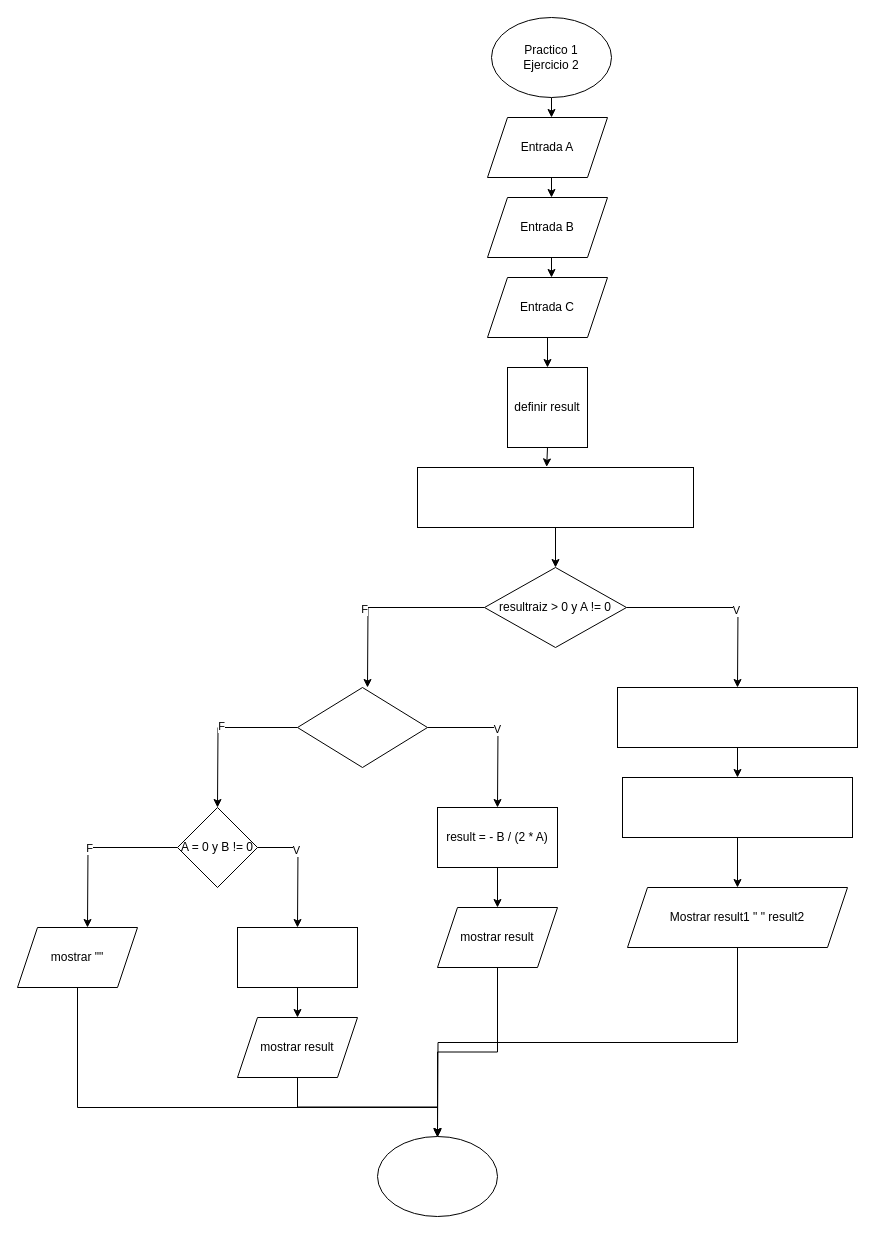
Image size: 875x1234. Some labels were removed from this diagram. Each missing label, with the box of its shape:
definir result raiz = raiz cuadrada( B * B - 4 A *C): (416, 466, 694, 528)
Definir result1 = (- B + resultraiz)/(2*A): (616, 686, 858, 748)
Definir result2 = (-B - resultraiz)/(2*A): (622, 776, 852, 838)
Fin Algoritmo: (376, 1136, 498, 1216)
result = - C / B: (236, 926, 358, 988)
resultraiz = 0 y A != 0: (296, 686, 428, 768)
